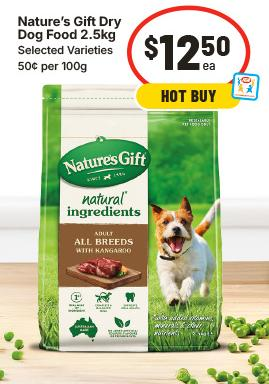description_block: (9, 10, 132, 42)
price_main: (127, 6, 258, 79)
product_image_block: (18, 80, 242, 361)
promo_text_block: (128, 79, 247, 111)
unit_price_block: (3, 56, 101, 74)
